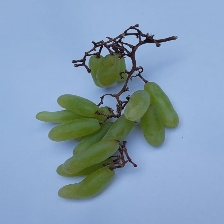grapes: (37, 38, 221, 190)
